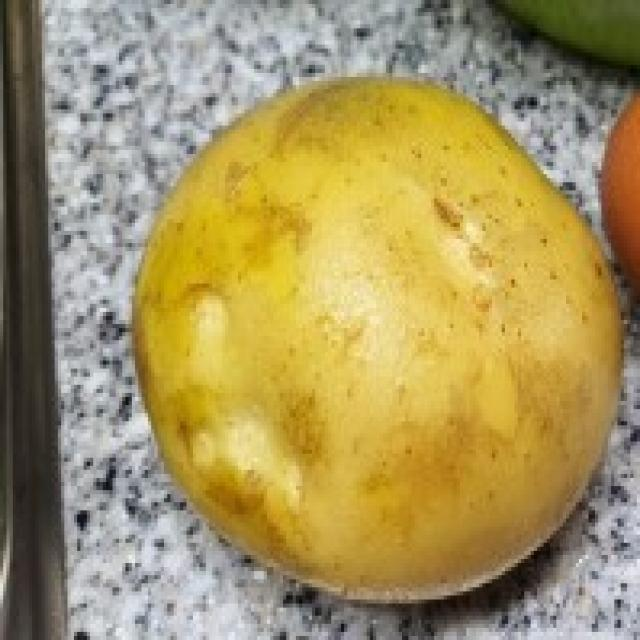potato: (130, 65, 624, 609)
